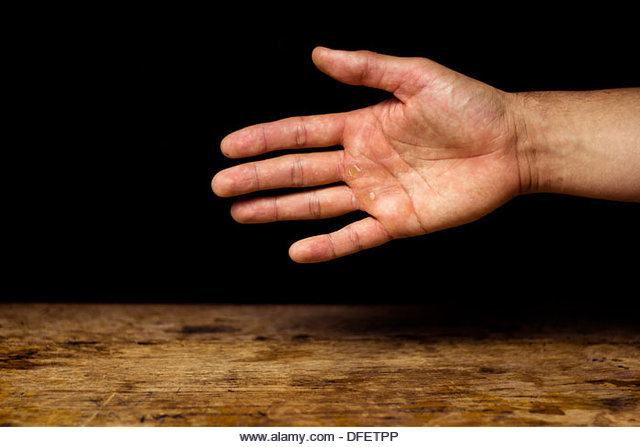non-diseased: (192, 12, 530, 265)
